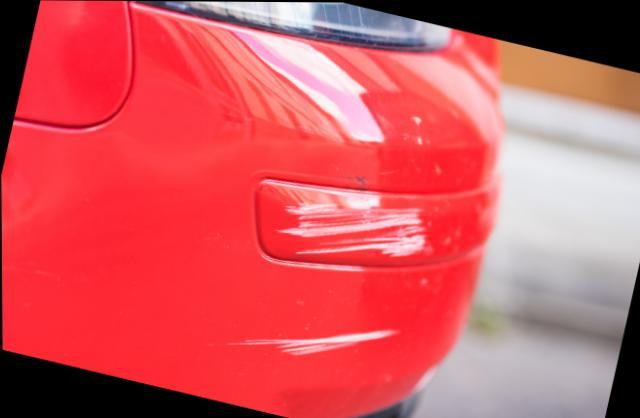scratch: (273, 197, 427, 258), (227, 325, 399, 356)
